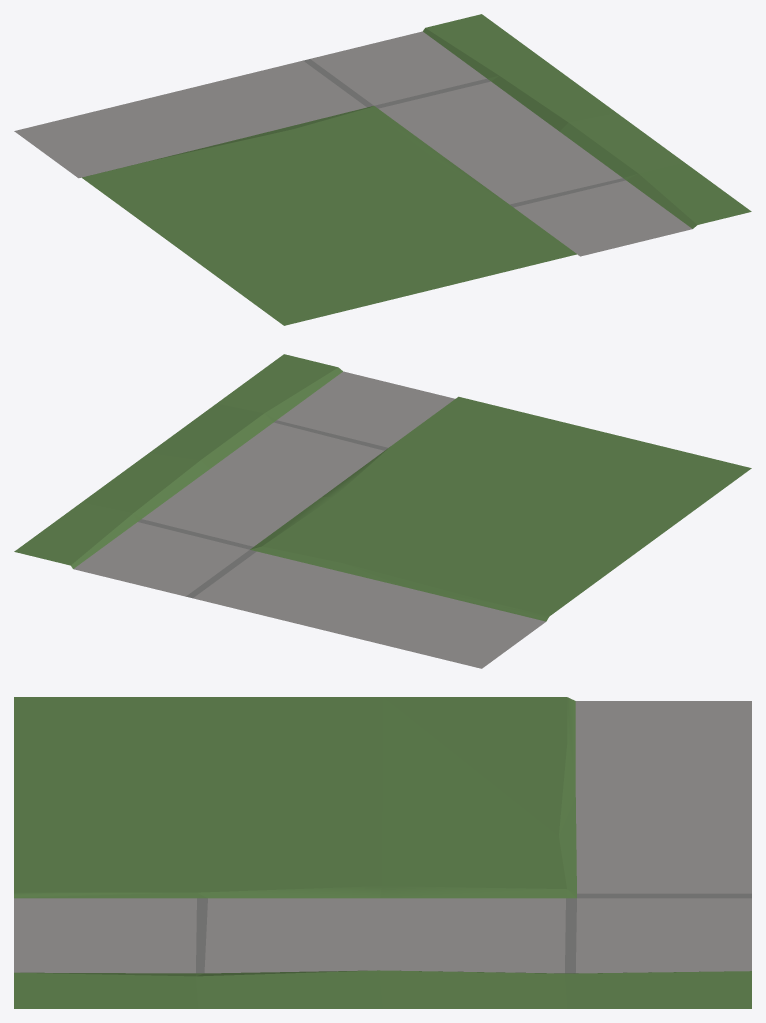
The model's file is SM_Env_Path_DoorLeft_02.fbx.
The picture shows the model from 3 angles, top to bottom: view 1: azimuth 30°, elevation 25°; view 2: azimuth 150°, elevation 25°; view 3: azimuth 270°, elevation 25°; orthographic projection. The views are drawn at different scales.
Parts seen in each view (by area): view 1: SM_Env_Path_DoorLeft_02; view 2: SM_Env_Path_DoorLeft_02; view 3: SM_Env_Path_DoorLeft_02.
Boxes of the visible parts, bbox=[...] form: SM_Env_Path_DoorLeft_02: bbox=[14, 14, 751, 325]; SM_Env_Path_DoorLeft_02: bbox=[14, 354, 751, 668]; SM_Env_Path_DoorLeft_02: bbox=[14, 697, 751, 1008].
Bounding box in the file's own units: 500 × 6.84 × 500.
